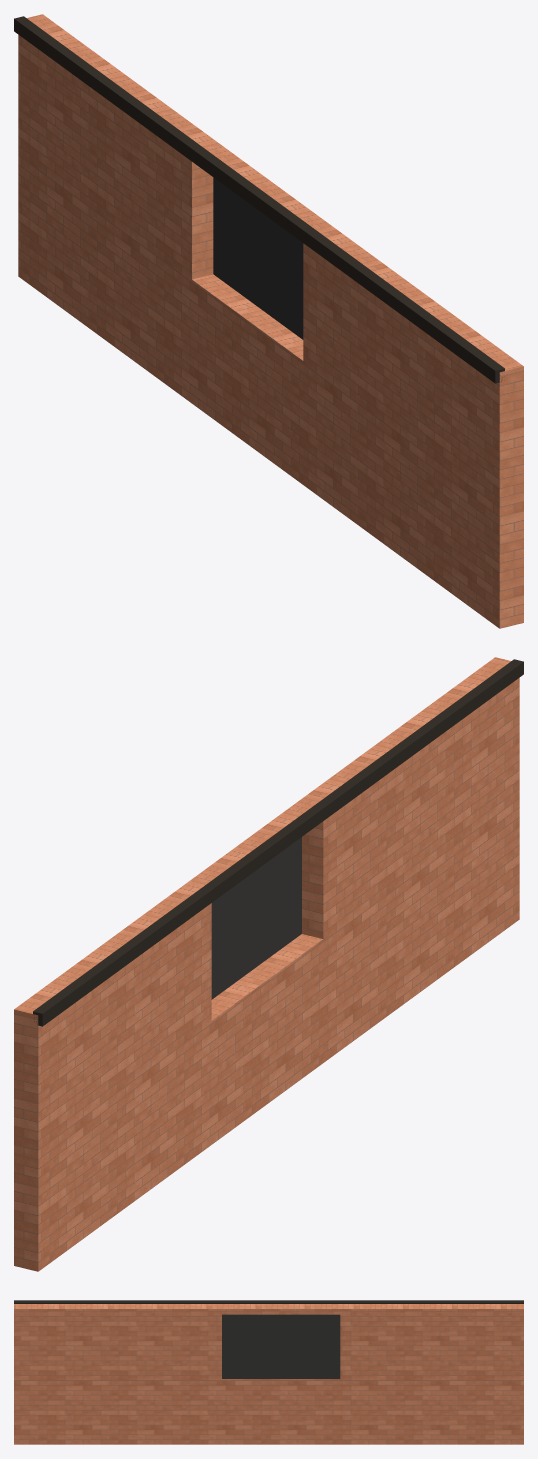
File: west-return-1937.glb
The picture shows the model from 3 angles, top to bottom: view 1: azimuth 30°, elevation 25°; view 2: azimuth 150°, elevation 25°; view 3: azimuth 270°, elevation 25°; orthographic projection. The views are drawn at different scales.
Visible parts, largest first — view 1: west-return-1937; view 2: west-return-1937; view 3: west-return-1937.
Part boxes in pixels (x1=…): west-return-1937: x1=14, y1=14, x2=523, y2=628; west-return-1937: x1=14, y1=657, x2=523, y2=1271; west-return-1937: x1=14, y1=1300, x2=523, y2=1444.
Size of the model in its own units: 0.236 by 2.03 by 6.85.
3 materials, 1 textured.
